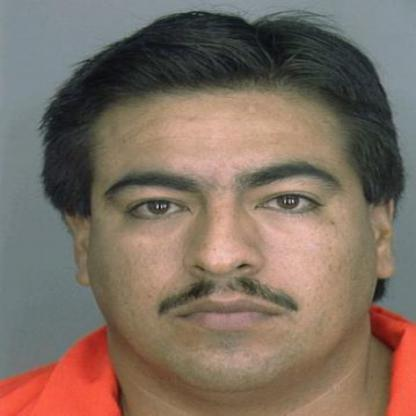face: (81, 26, 380, 397)
